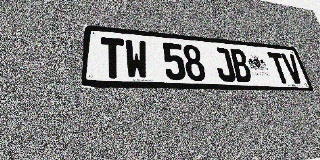5: (162, 42, 187, 81)
8: (182, 44, 207, 81)
B: (229, 48, 253, 82)
J: (212, 47, 237, 82)
T: (100, 37, 125, 79), (267, 52, 291, 84)
V: (281, 53, 305, 84)
W: (124, 39, 149, 79)
